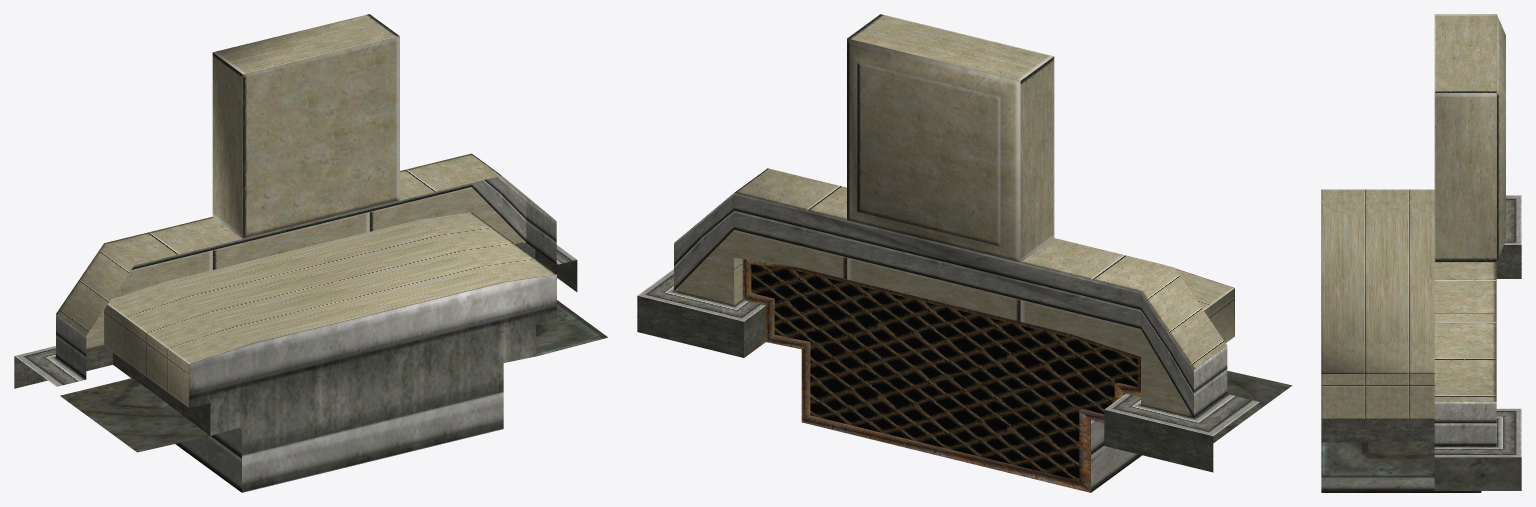
Rendered from DWARF_PALACE_WATERROOM_CANAL_VENT05.fbx.
The picture shows the model from 3 angles, left to right: view 1: azimuth 30°, elevation 25°; view 2: azimuth 150°, elevation 25°; view 3: azimuth 270°, elevation 25°; orthographic projection. The views are drawn at different scales.
Parts seen in each view (by area): view 1: DWARF_PALACE_WATERROOM_CANAL_VENT05; view 2: DWARF_PALACE_WATERROOM_CANAL_VENT05; view 3: DWARF_PALACE_WATERROOM_CANAL_VENT05.
Boxes of the visible parts, x1=… form: DWARF_PALACE_WATERROOM_CANAL_VENT05: x1=14, y1=14, x2=607, y2=492; DWARF_PALACE_WATERROOM_CANAL_VENT05: x1=637, y1=14, x2=1292, y2=492; DWARF_PALACE_WATERROOM_CANAL_VENT05: x1=1321, y1=14, x2=1521, y2=492.
Bounding box in the file's own units: 49728 × 33273 × 16097.
Materials: 7 (7 with a texture image).
